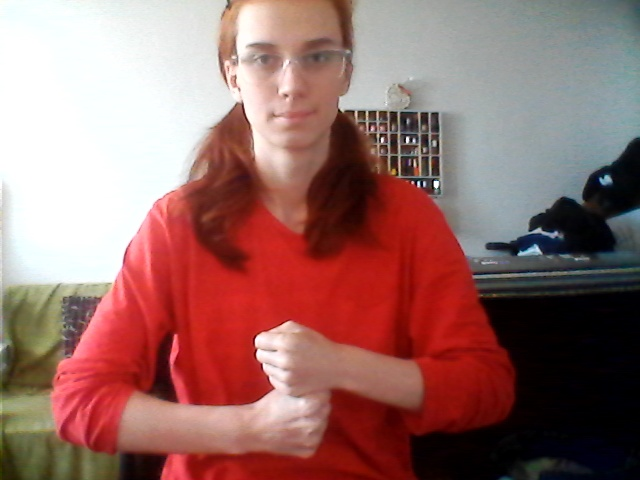g: (241, 322, 346, 466)
